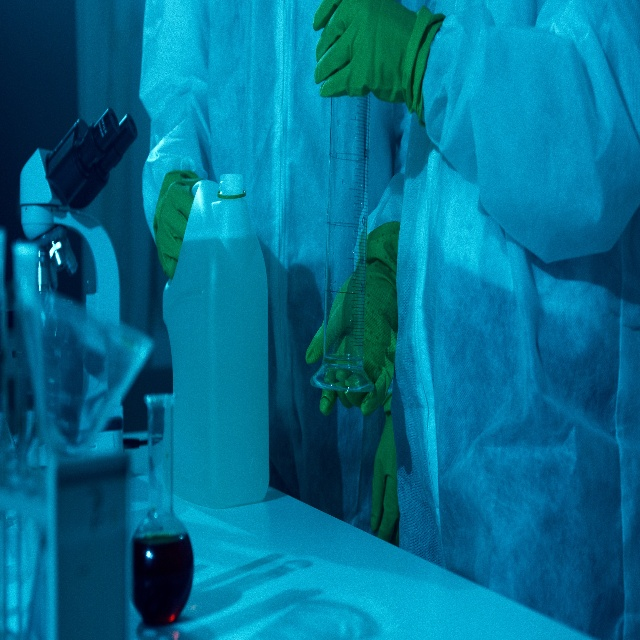Guantes: (303, 224, 402, 419), (315, 0, 439, 121), (152, 169, 202, 279), (369, 398, 397, 542)
